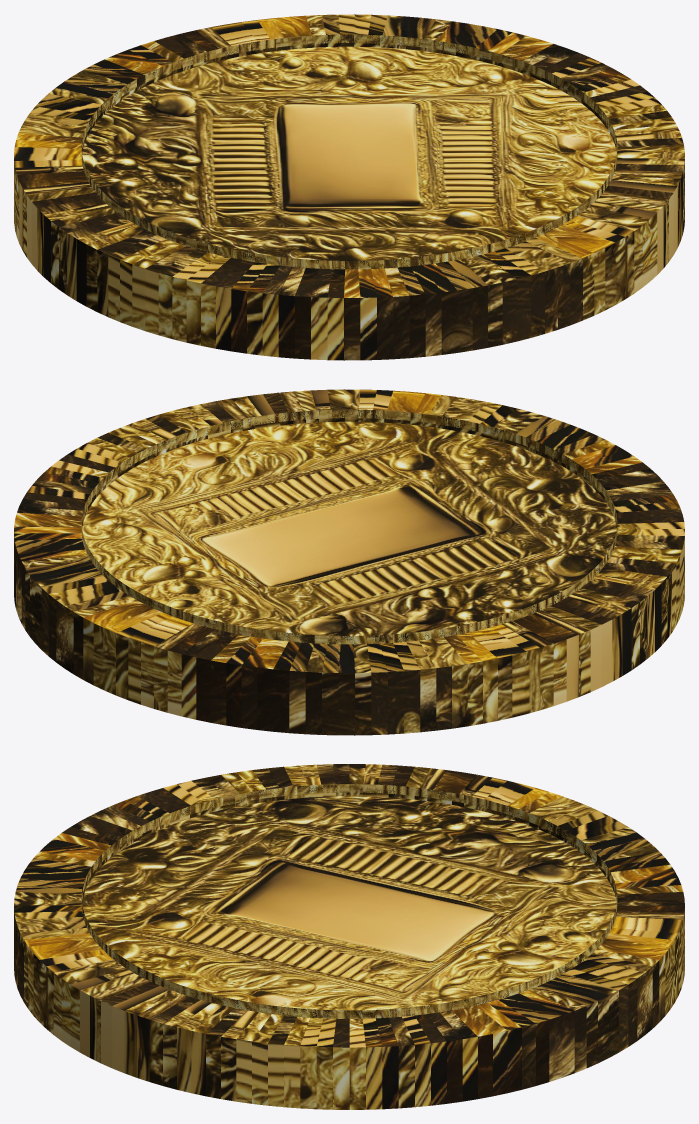
The model's file is pièce.glb.
3 renders of one model, top to bottom at view 1: azimuth 30°, elevation 25°; view 2: azimuth 150°, elevation 25°; view 3: azimuth 270°, elevation 25°, orthographic.
Visible parts, largest first — view 1: Cercle; view 2: Cercle; view 3: Cercle.
Boxes of the visible parts, bbox=[...] form: Cercle: bbox=[14, 14, 684, 360]; Cercle: bbox=[14, 389, 684, 735]; Cercle: bbox=[14, 764, 684, 1109].
Bounding box in the file's own units: 2 × 0.2334 × 2.
Materials: 1 (1 with a texture image).
